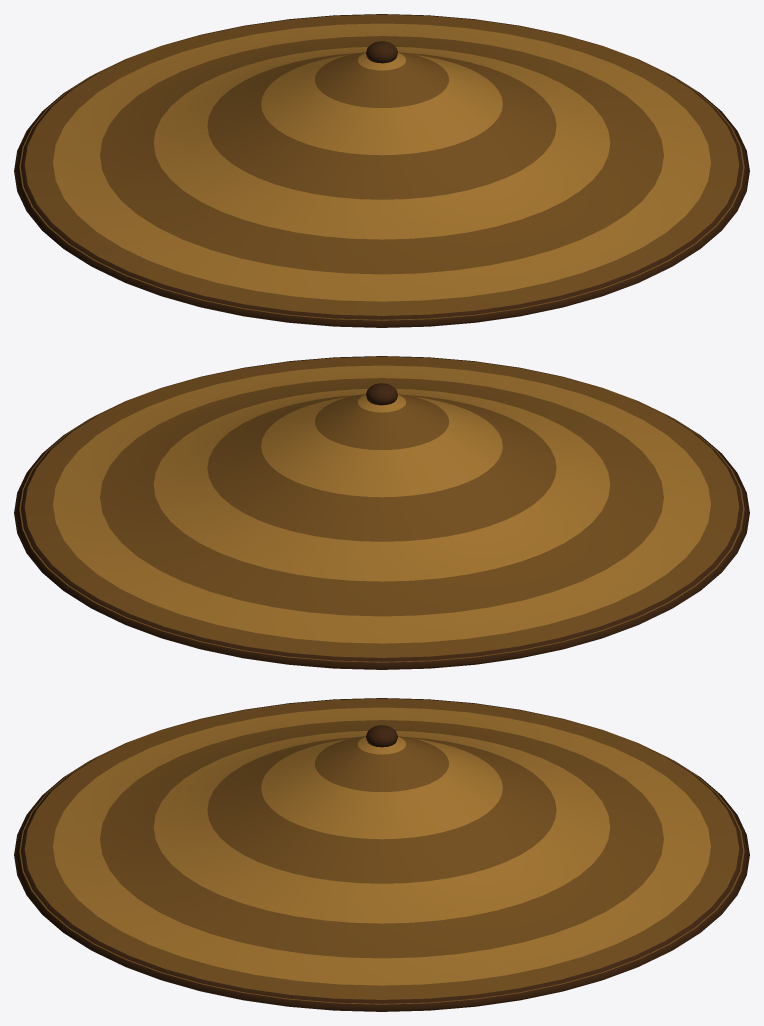
File: caping.obj
The picture shows the model from 3 angles, top to bottom: view 1: azimuth 30°, elevation 25°; view 2: azimuth 150°, elevation 25°; view 3: azimuth 270°, elevation 25°; orthographic projection.
Visible parts, largest first — view 1: caping, caping_tepi, caping_pucuk; view 2: caping, caping_tepi, caping_pucuk; view 3: caping, caping_tepi, caping_pucuk.
Part boxes in pixels (x1,y1,x2,y2): caping: (19, 14, 744, 320); caping_tepi: (14, 14, 749, 327); caping_pucuk: (366, 41, 397, 63); caping: (19, 356, 744, 662); caping_tepi: (14, 356, 749, 669); caping_pucuk: (366, 383, 397, 405); caping: (19, 698, 744, 1004); caping_tepi: (14, 698, 749, 1011); caping_pucuk: (366, 725, 397, 747).
Size of the model in its own units: 5.48 by 1.08 by 5.48.
